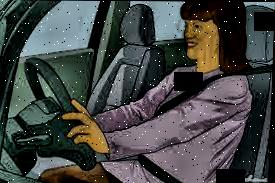seatbelt: (132, 62, 271, 183)
